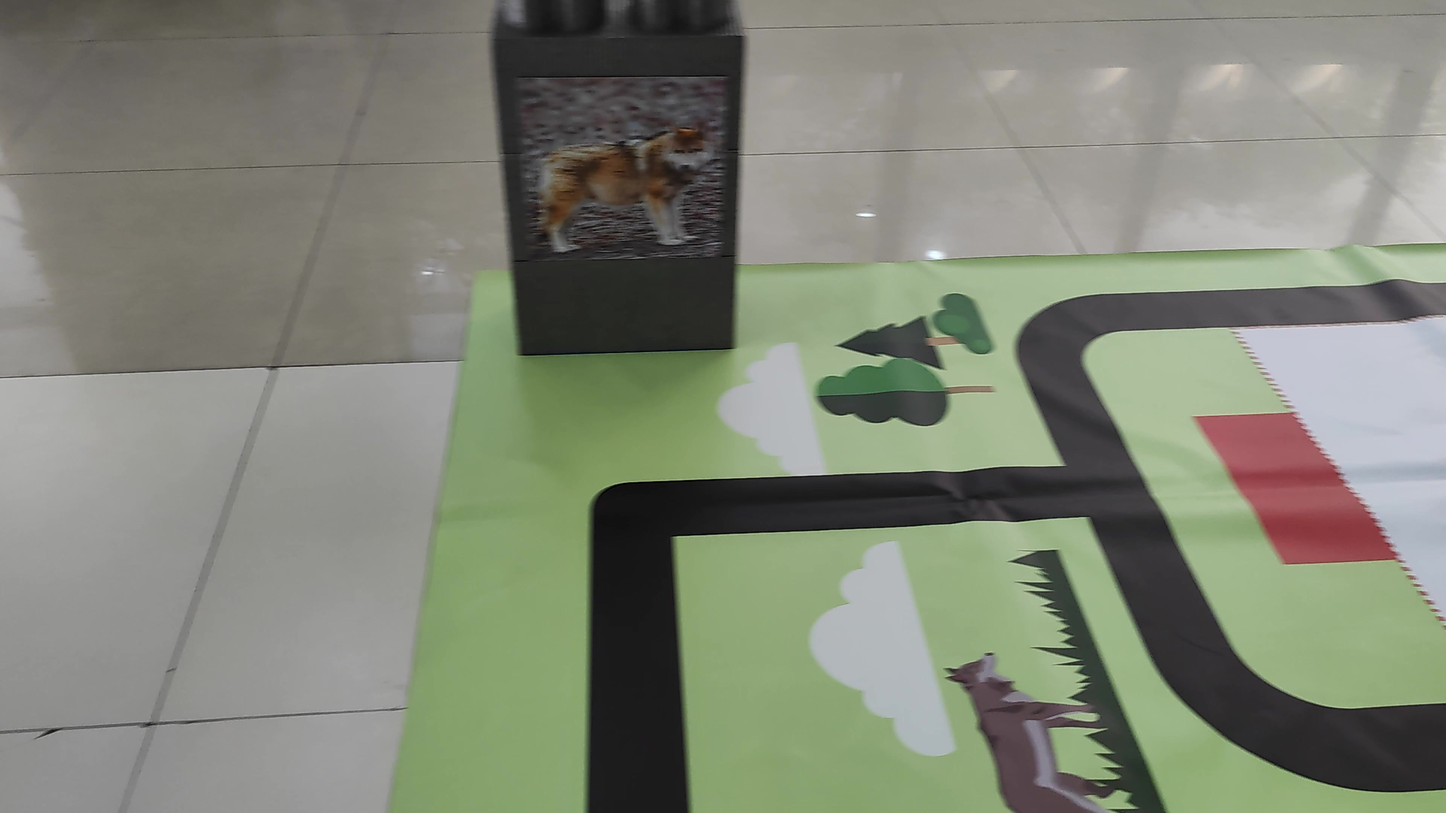wolf: (523, 79, 725, 257)
